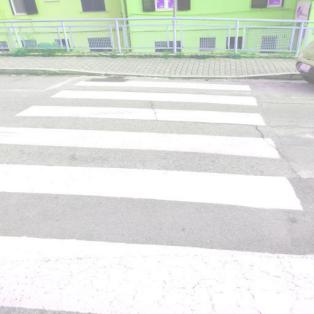Paso de Cebra: (0, 161, 314, 313), (12, 89, 270, 131)
